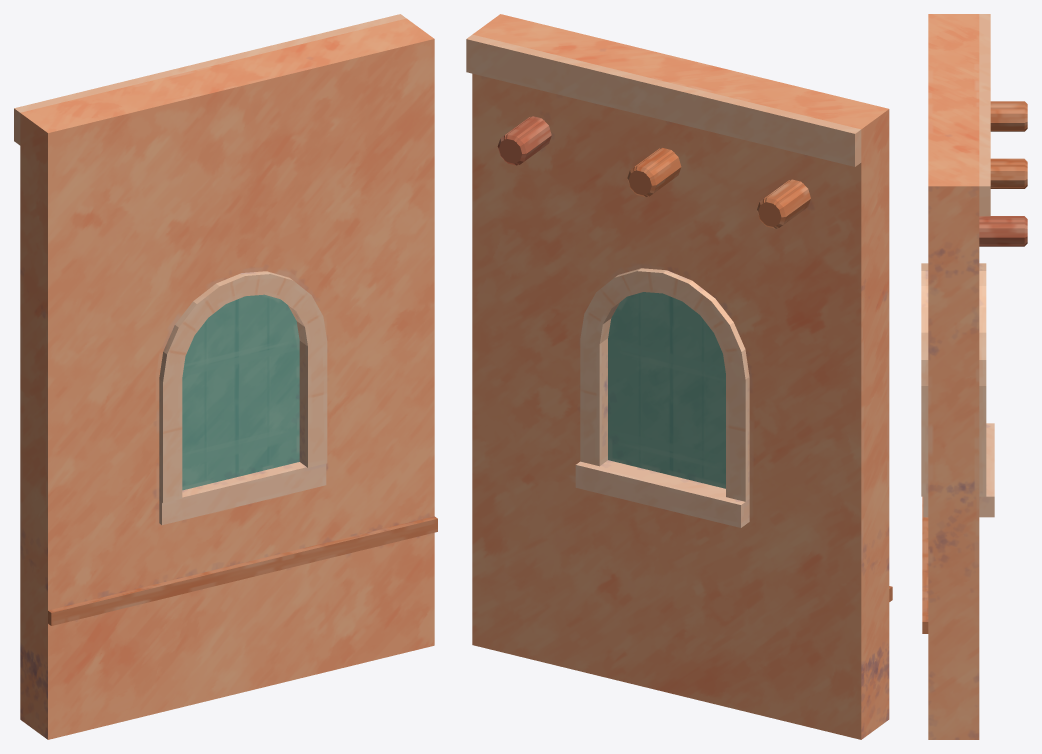
File: wall2_upper_shutter.bundle.fbx
3 views of the same model, side by side, from view 1: azimuth 30°, elevation 25°; view 2: azimuth 150°, elevation 25°; view 3: azimuth 270°, elevation 25° (orthographic). The views are drawn at different scales.
Visible parts, largest first — view 1: wall2_upper_shutter, wall2_upper_shutter_s01, wall2_upper_shutter_s11, wall2_upper_shutter_s10, wall2_upper_shutter_s03, wall2_upper_shutter_s02, wall2_upper_shutter_s05, wall2_upper_shutter_s04, wall2_upper_shutter_s08, wall2_upper_shutter_s06, wall2_upper_shutter_s09, wall2_upper_shutter_s00 (+1 smaller); view 2: wall2_upper_shutter, wall2_upper_shutter_s01, wall2_upper_shutter_s11, wall2_upper_shutter_s10, wall2_upper_shutter_s08, wall2_upper_shutter_s04, wall2_upper_shutter_s02, wall2_upper_shutter_s03, wall2_upper_shutter_s07, wall2_upper_shutter_s06, wall2_upper_shutter_s09, wall2_upper_shutter_s05 (+1 smaller); view 3: wall2_upper_shutter, wall2_upper_shutter_s01, wall2_upper_shutter_s03, wall2_upper_shutter_s10, wall2_upper_shutter_s11, wall2_upper_shutter_low, wall2_upper_shutter_s05, wall2_upper_shutter_s09.
Part boxes in pixels (x1,y1,x2,y2): wall2_upper_shutter: (14,14,437,739); wall2_upper_shutter_s01: (279,14,434,315); wall2_upper_shutter_s11: (230,514,437,692); wall2_upper_shutter_s10: (15,46,313,259); wall2_upper_shutter_s03: (269,296,434,510); wall2_upper_shutter_s02: (20,133,290,348); wall2_upper_shutter_s05: (272,362,434,525); wall2_upper_shutter_s04: (71,252,287,431); wall2_upper_shutter_s08: (20,537,129,739); wall2_upper_shutter_s06: (20,305,155,523); wall2_upper_shutter_s09: (159,341,279,518); wall2_upper_shutter_s00: (127,561,253,678); wall2_upper_shutter: (466,14,892,739); wall2_upper_shutter_s01: (466,14,626,301); wall2_upper_shutter_s11: (472,501,668,692); wall2_upper_shutter_s10: (588,44,889,261); wall2_upper_shutter_s08: (782,524,891,738); wall2_upper_shutter_s04: (615,219,848,440); wall2_upper_shutter_s02: (619,137,888,321); wall2_upper_shutter_s03: (472,287,643,508); wall2_upper_shutter_s07: (679,449,889,597); wall2_upper_shutter_s06: (735,320,889,521); wall2_upper_shutter_s09: (623,351,726,514); wall2_upper_shutter_s05: (513,410,635,509); wall2_upper_shutter: (921,14,1027,739); wall2_upper_shutter_s01: (921,132,990,437); wall2_upper_shutter_s03: (921,326,986,618); wall2_upper_shutter_s10: (928,14,990,132); wall2_upper_shutter_s11: (922,540,979,739); wall2_upper_shutter_low: (979,102,1027,246); wall2_upper_shutter_s05: (921,433,994,619); wall2_upper_shutter_s09: (986,443,994,475).
Bounding box in the file's own units: 8 × 12 × 2.09.
1 material, 1 textured.
